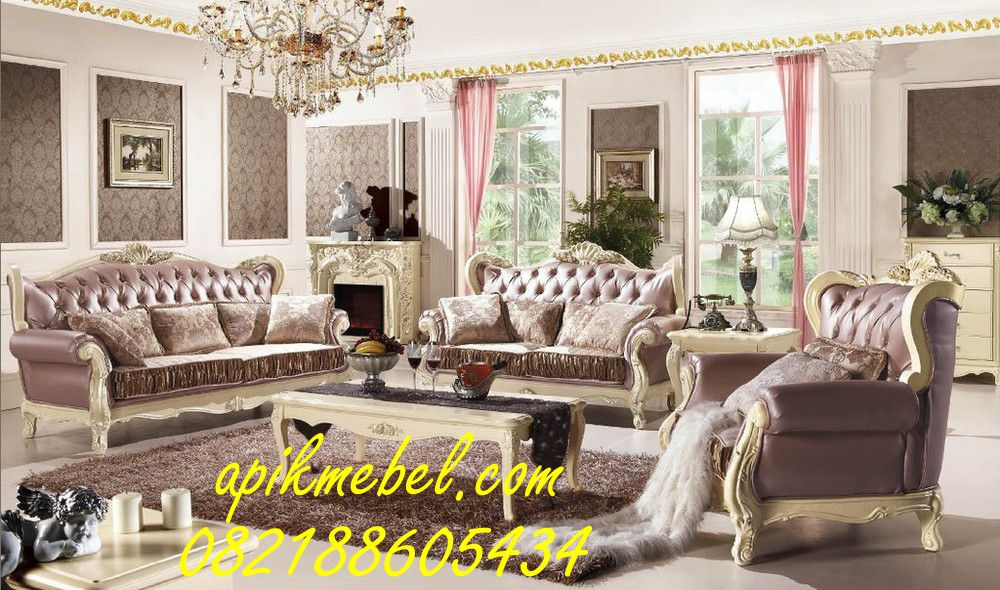Carving Chair: (666, 271, 980, 565), (20, 247, 357, 425), (408, 241, 686, 423)
Carving Table: (274, 382, 599, 526)
